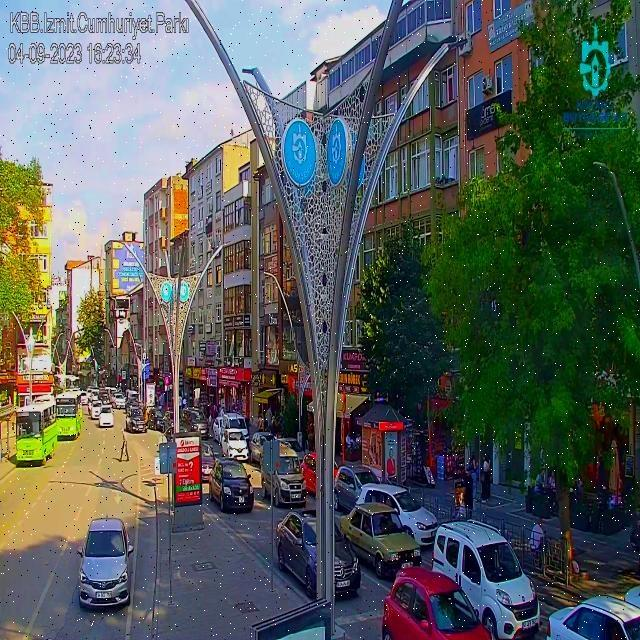Bus: (11, 400, 56, 464), (53, 394, 83, 440)
Car: (383, 564, 496, 640), (278, 510, 361, 599), (342, 505, 423, 576), (356, 483, 438, 549), (79, 517, 129, 607), (543, 599, 639, 640), (208, 460, 256, 512), (334, 466, 378, 507), (220, 429, 250, 462), (100, 405, 114, 426)
Truck: (261, 438, 307, 506)
Van: (430, 521, 546, 640)
